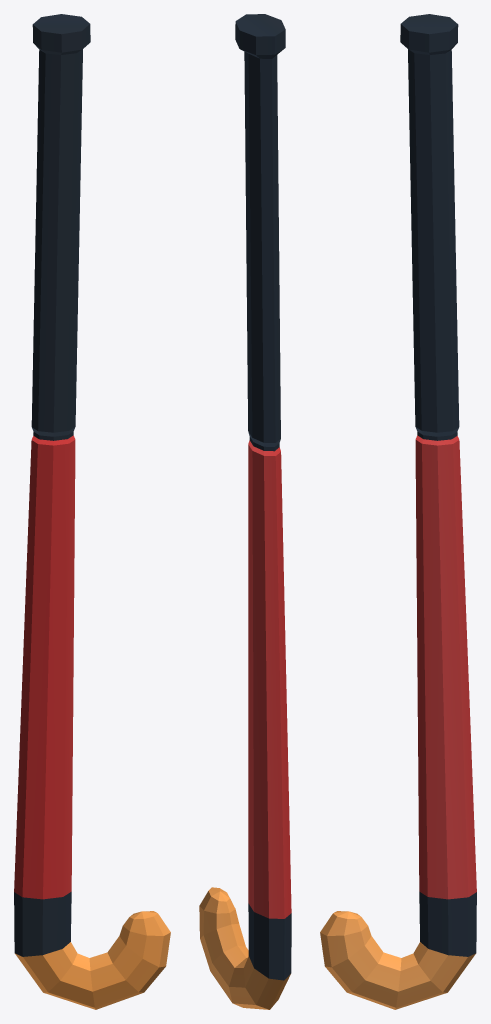
File: PP_Bat3.fbx
3 renders of one model, left to right at view 1: azimuth 90°, elevation 25°; view 2: azimuth 210°, elevation 25°; view 3: azimuth 270°, elevation 25°, orthographic.
Parts seen in each view (by area): view 1: Bat_3; view 2: Bat_3; view 3: Bat_3.
Boxes of the visible parts, x1=… form: Bat_3: x1=14, y1=14, x2=170, y2=1009; Bat_3: x1=199, y1=14, x2=291, y2=1009; Bat_3: x1=320, y1=14, x2=476, y2=1009.
Size of the model in its own units: 4.7 by 107 by 15.39.
